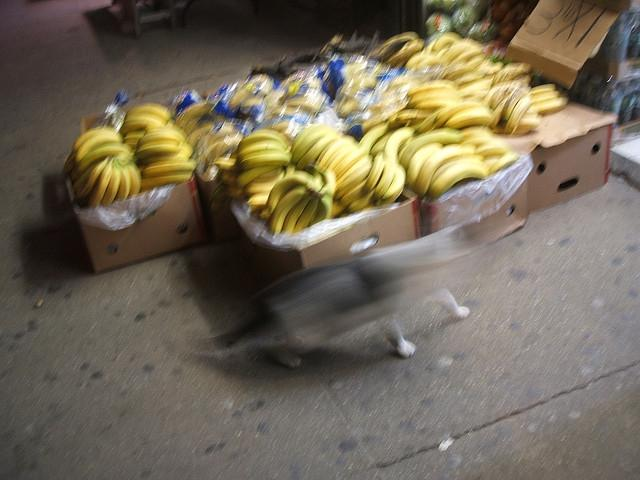banana: (398, 128, 462, 179), (414, 146, 475, 197), (70, 144, 134, 183), (427, 162, 488, 198), (195, 132, 243, 174), (428, 155, 486, 189), (294, 132, 342, 172), (267, 174, 313, 215), (290, 126, 337, 166), (270, 184, 306, 236), (405, 142, 444, 189), (82, 156, 114, 208), (314, 137, 361, 172), (333, 161, 374, 201), (74, 134, 122, 166), (490, 74, 531, 111), (76, 156, 110, 200), (372, 31, 419, 62), (72, 127, 124, 155), (334, 154, 374, 190), (432, 102, 483, 128), (72, 157, 106, 196), (503, 92, 533, 136), (384, 126, 416, 166), (406, 88, 463, 110), (243, 168, 286, 197), (233, 164, 280, 190), (332, 146, 368, 179), (282, 195, 312, 234), (502, 83, 532, 122), (140, 158, 198, 178), (444, 107, 494, 130), (292, 194, 320, 235), (236, 132, 288, 154), (384, 38, 424, 66), (340, 178, 380, 206), (334, 80, 369, 112), (126, 102, 172, 126), (237, 141, 286, 163), (440, 38, 481, 64), (235, 153, 291, 172), (413, 106, 448, 136), (358, 122, 390, 154), (176, 102, 215, 128), (136, 129, 184, 150), (100, 158, 121, 206), (140, 172, 193, 191), (371, 161, 395, 201), (362, 155, 386, 195), (406, 80, 459, 98), (290, 126, 324, 154), (427, 63, 476, 82), (486, 150, 522, 175), (526, 96, 570, 116), (382, 164, 406, 199), (346, 186, 377, 213), (308, 194, 332, 228), (456, 77, 494, 98), (136, 152, 190, 166), (114, 162, 132, 202), (474, 141, 516, 158), (186, 123, 213, 149), (134, 145, 180, 160), (396, 108, 434, 126), (374, 184, 405, 206), (449, 50, 484, 66), (338, 96, 364, 117), (413, 99, 460, 110), (284, 98, 320, 112), (452, 72, 482, 88), (416, 56, 450, 70), (316, 173, 335, 198), (229, 88, 250, 110), (210, 156, 238, 172), (460, 125, 494, 138), (532, 91, 568, 103), (119, 122, 148, 136), (270, 107, 314, 116), (461, 136, 498, 146), (246, 194, 270, 208), (464, 55, 486, 70), (530, 84, 558, 95), (258, 167, 284, 177), (386, 112, 402, 128), (434, 44, 452, 56), (272, 120, 290, 132), (279, 132, 293, 146), (122, 136, 144, 144), (264, 98, 274, 112), (443, 144, 460, 150), (419, 45, 428, 56), (138, 164, 150, 171)
lettuce: (236, 139, 286, 164), (452, 6, 482, 37), (464, 21, 498, 43), (409, 91, 462, 103), (425, 12, 453, 34), (464, 0, 489, 19), (438, 1, 464, 17)
